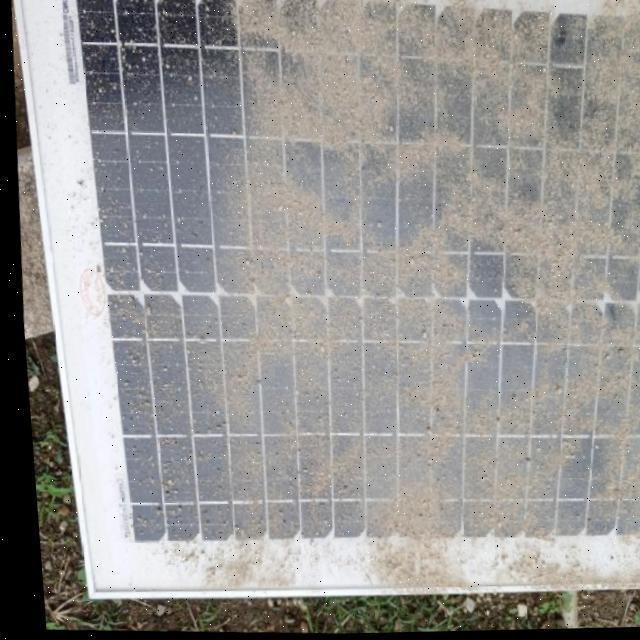Anomaly Solar Panel: (25, 0, 640, 582)
Surface Contaminant: (89, 7, 640, 554)
